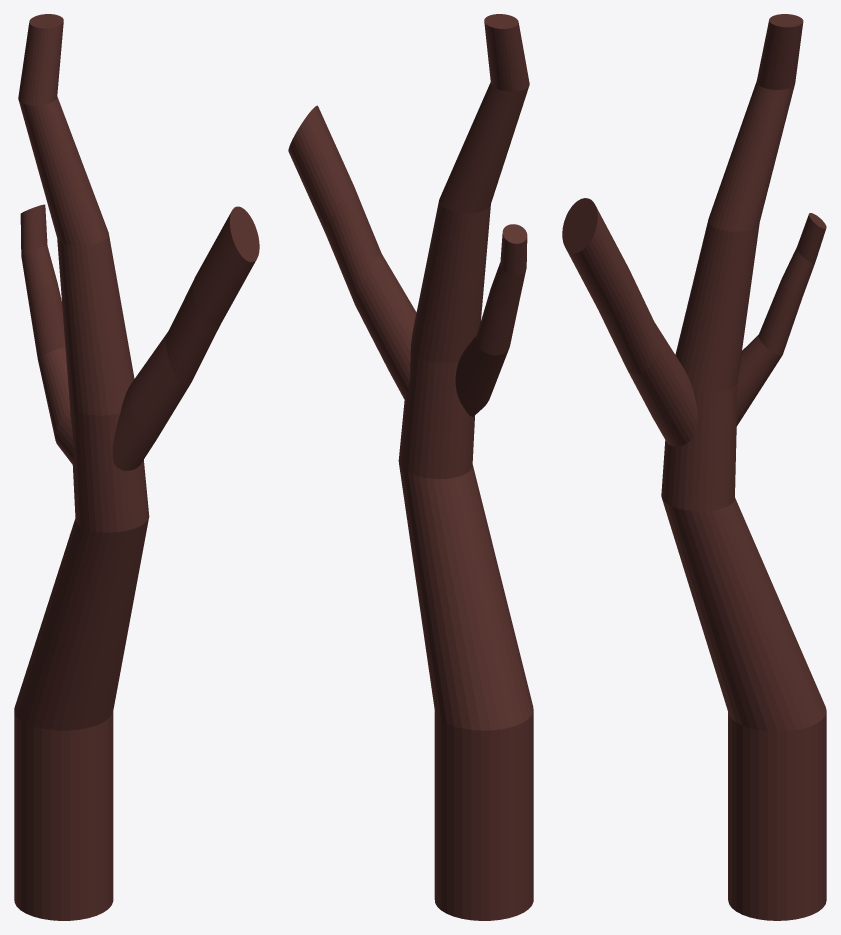
Rendered from Night Tree 1.fbx.
3 views of the same model, side by side, from view 1: azimuth 30°, elevation 25°; view 2: azimuth 210°, elevation 25°; view 3: azimuth 270°, elevation 25° (orthographic).
Visible parts, largest first — view 1: Small Tree, Cylinder.004, Cylinder.003; view 2: Small Tree, Cylinder.004, Cylinder.003; view 3: Small Tree, Cylinder.004, Cylinder.003.
Part boxes in pixels (x1,y1,x2,y2): Small Tree: (14,14,149,920); Cylinder.004: (112,206,259,470); Cylinder.003: (20,204,73,464); Small Tree: (398,14,533,920); Cylinder.004: (288,105,416,399); Cylinder.003: (455,224,527,416); Small Tree: (661,14,826,920); Cylinder.004: (562,198,697,446); Cylinder.003: (736,213,826,426).
Size of the model in its own units: 200 by 1170 by 321.
